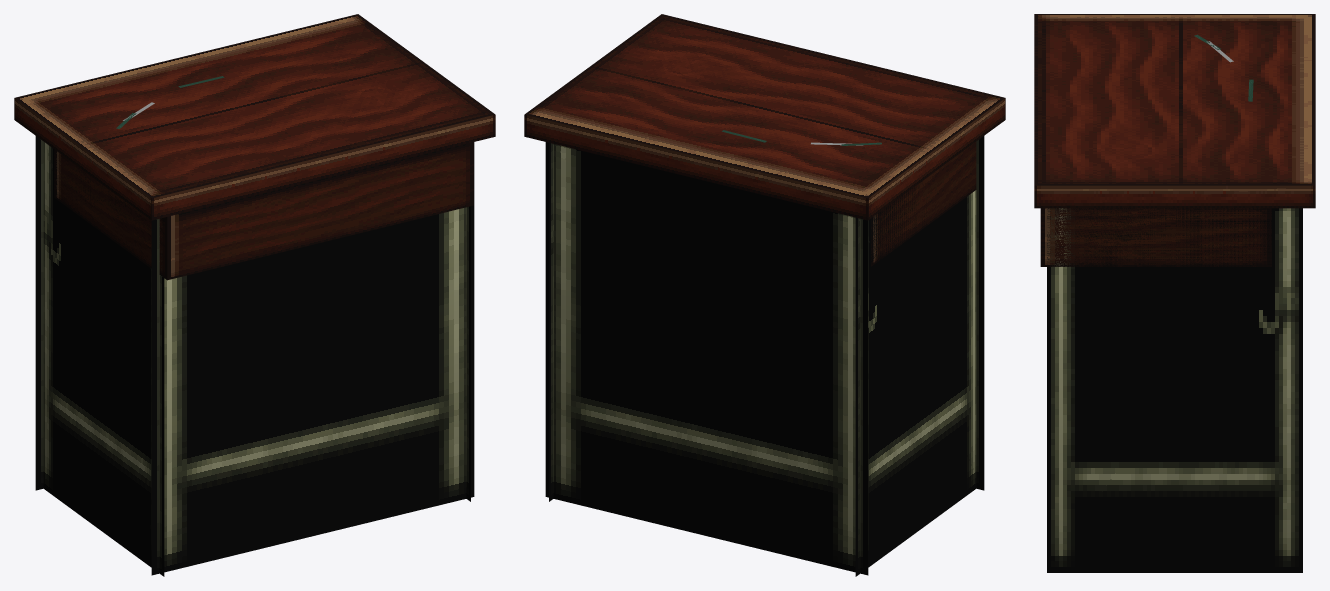
Rendered from prop_desk-3.glb.
3 renders of one model, left to right at view 1: azimuth 30°, elevation 25°; view 2: azimuth 150°, elevation 25°; view 3: azimuth 270°, elevation 25°, orthographic. The views are drawn at different scales.
Parts seen in each view (by area): view 1: prop_desk-3; view 2: prop_desk-3; view 3: prop_desk-3.
Part boxes in pixels (x1,y1,x2,y2): prop_desk-3: [14, 14, 495, 576]; prop_desk-3: [524, 14, 1005, 576]; prop_desk-3: [1034, 14, 1315, 572].
Bounding box in the file's own units: 0.637 × 0.688 × 0.441.
4 materials, 4 textured.
